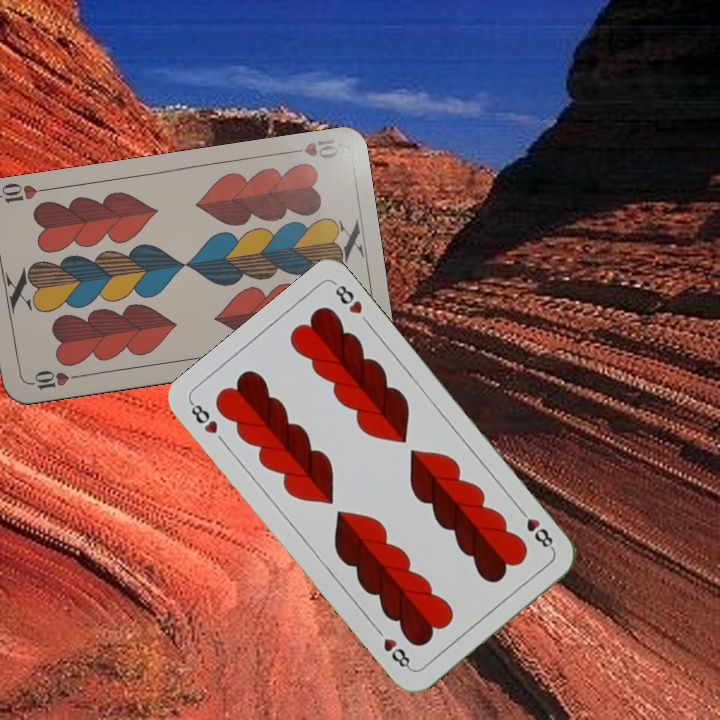H10: (281, 135, 341, 162), (23, 366, 82, 393)
H8: (514, 504, 557, 553), (186, 398, 221, 437)
